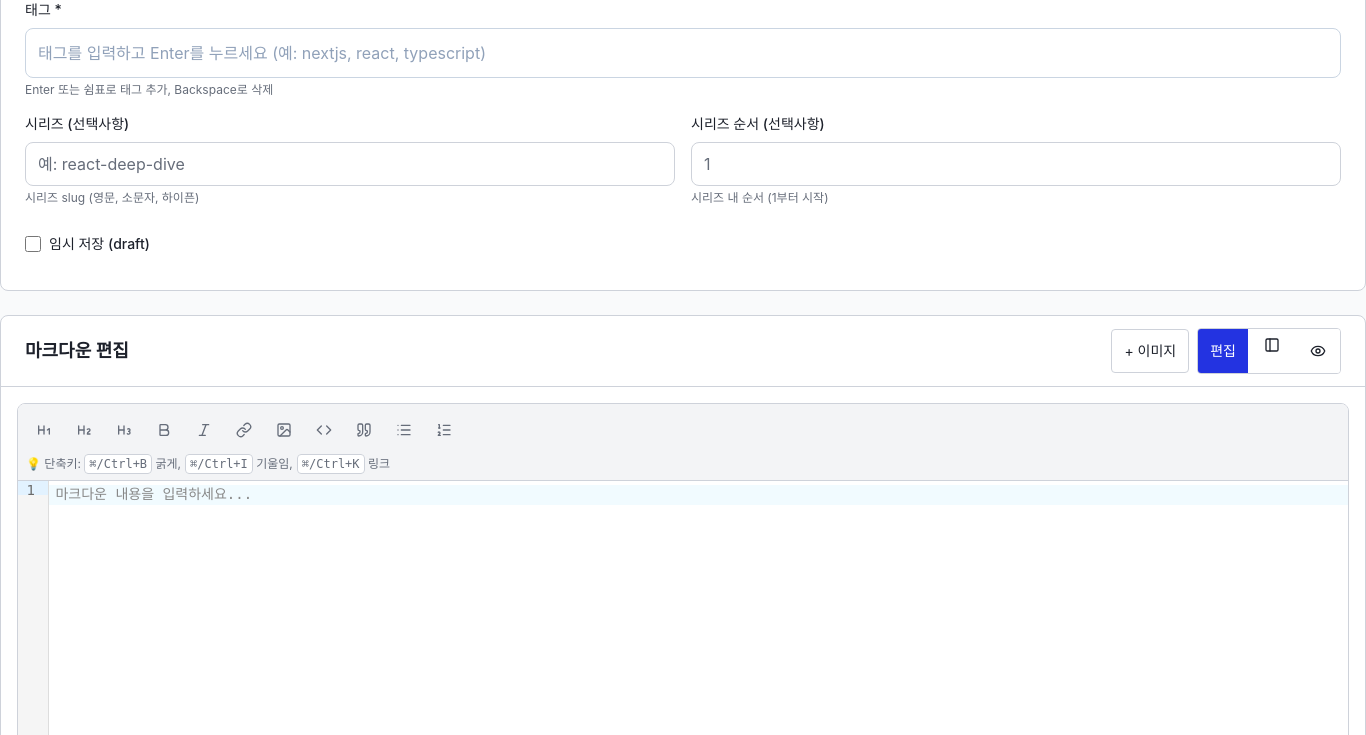
Test: FileCreatorWidget - 스크롤 동기화 (TDD) › RED: 실패하는 테스트 먼저 작성 → GREEN: 구현 › 분할 모드에서 data-testid="markdown-editor-scroll" 요소가 존재해야 함
(page scrolled)
Note: 분할 모드 버튼 클릭
Click the button titled "분할 보기": point(1272, 351) [1252,329,1292,373]
(page scrolled)
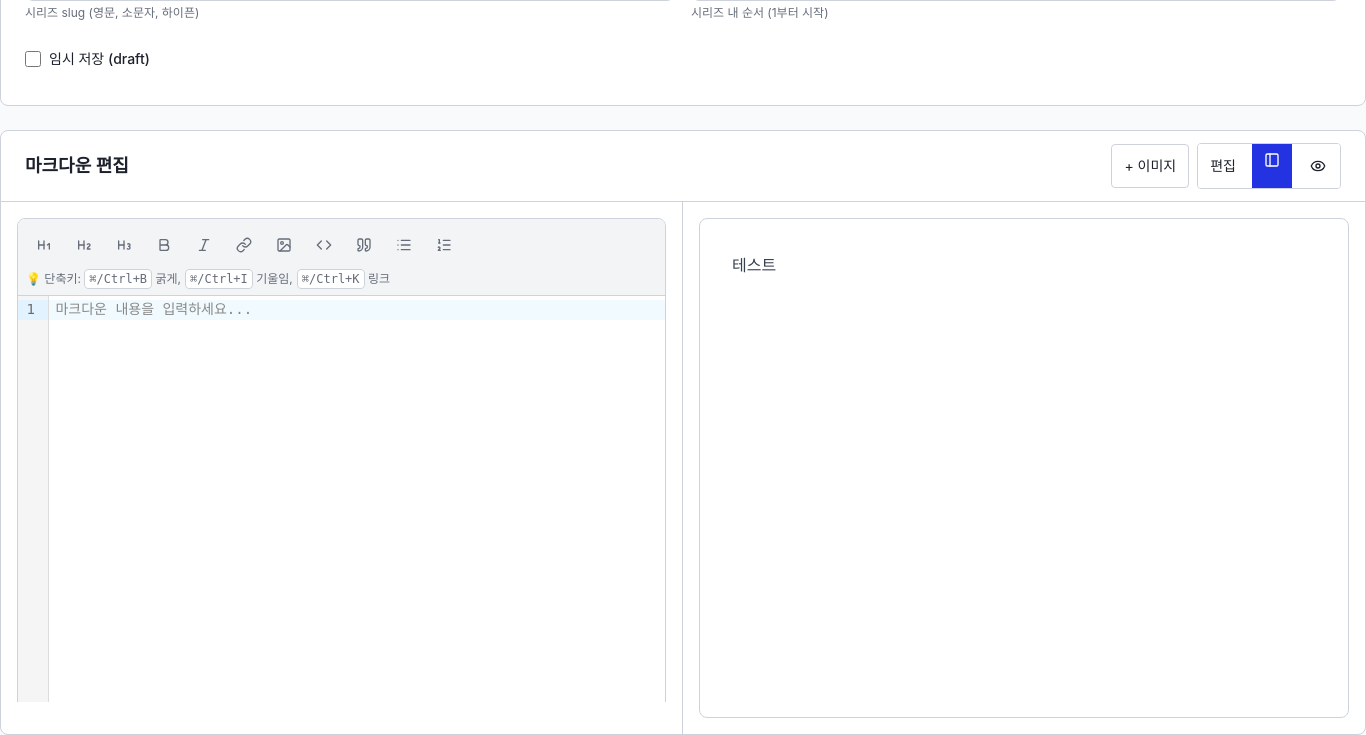
Expected: the element with test id "markdown-editor-scroll" is shown, [1,202,682,702]
Expected: the element with test id "preview-scroll" is shown, [699,218,1349,718]
